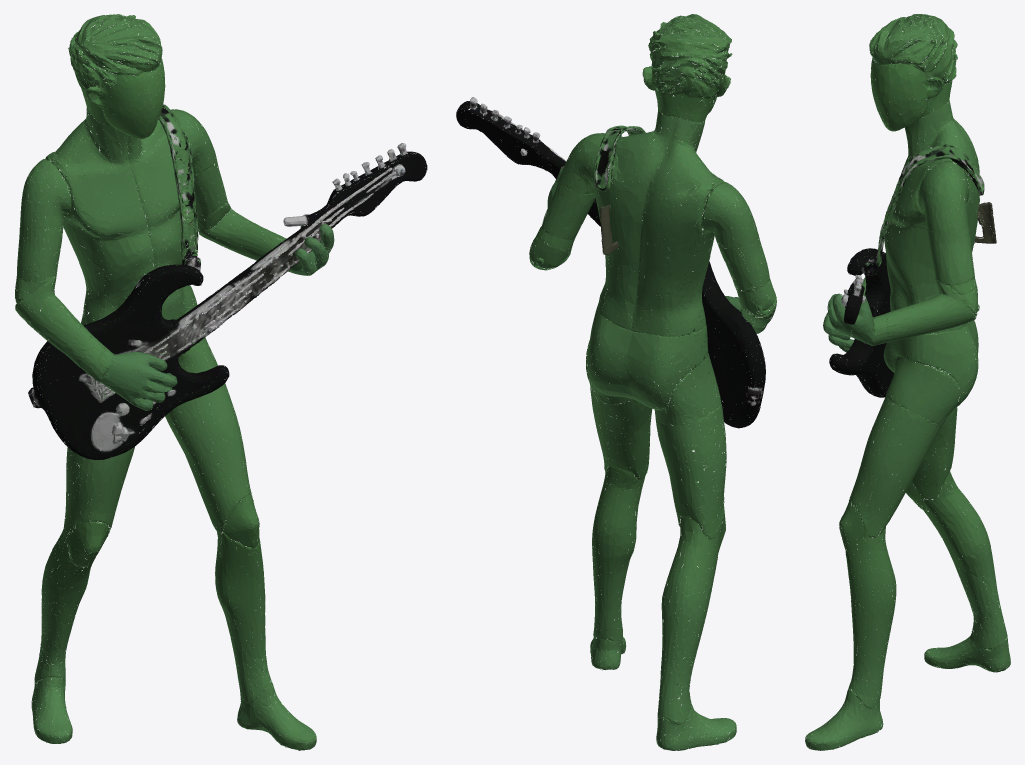
The model's file is fig_guitar.glb.
The picture shows the model from 3 angles, left to right: view 1: azimuth 30°, elevation 25°; view 2: azimuth 150°, elevation 25°; view 3: azimuth 270°, elevation 25°; orthographic projection. The views are drawn at different scales.
Visible parts, largest first — view 1: world; view 2: world; view 3: world.
Boxes of the visible parts, left/top/right/bottom form: world: left=15, top=14, right=427, bottom=750; world: left=456, top=14, right=776, bottom=750; world: left=805, top=14, right=1010, bottom=750.
Size of the model in its own units: 0.5377 by 1 by 0.2805.
Materials: 1 (1 with a texture image).
